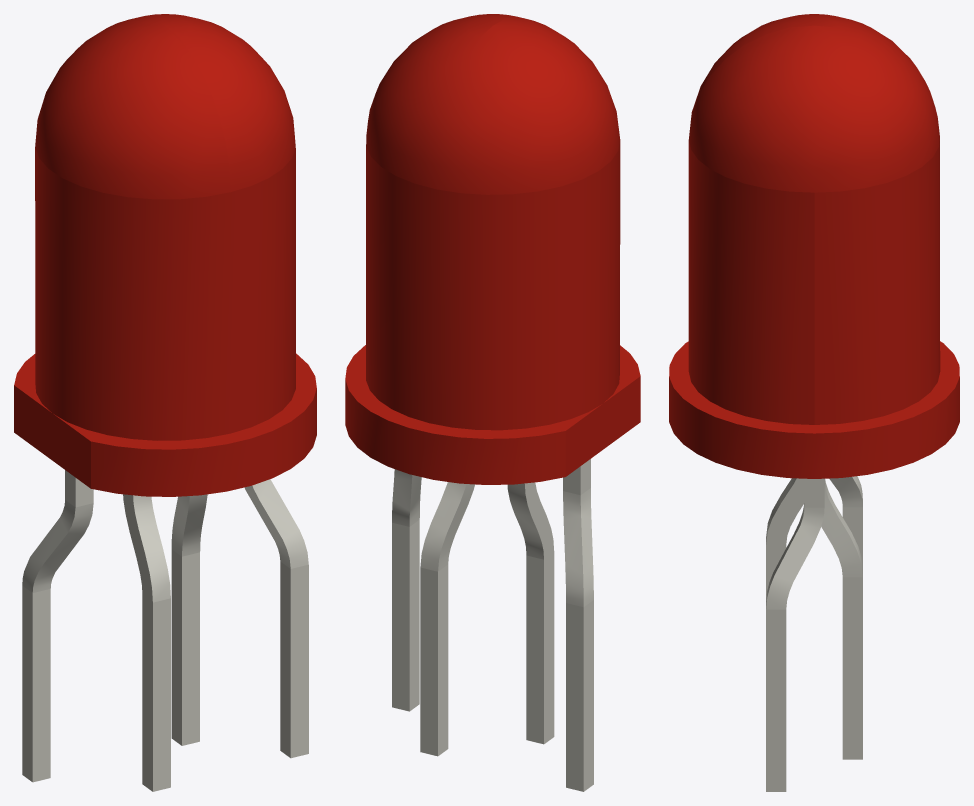
Rendered from kc-led_d5.0mm-4_rgb_staggered_pins.glb.
The picture shows the model from 3 angles, left to right: view 1: azimuth 30°, elevation 25°; view 2: azimuth 150°, elevation 25°; view 3: azimuth 270°, elevation 25°; orthographic projection. The views are drawn at different scales.
Visible parts, largest first — view 1: 0.4166666666666667_0_0_0, 0.6666666666666666_0.6666666666666666_0.5833333333333334_0.8; view 2: 0.4166666666666667_0_0_0, 0.6666666666666666_0.6666666666666666_0.5833333333333334_0.8; view 3: 0.4166666666666667_0_0_0, 0.6666666666666666_0.6666666666666666_0.5833333333333334_0.8.
Part boxes in pixels (left/top/right/bottom): 0.4166666666666667_0_0_0: left=14, top=14, right=316, bottom=496; 0.6666666666666666_0.6666666666666666_0.5833333333333334_0.8: left=22, top=470, right=308, bottom=791; 0.4166666666666667_0_0_0: left=345, top=14, right=640, bottom=484; 0.6666666666666666_0.6666666666666666_0.5833333333333334_0.8: left=392, top=459, right=593, bottom=791; 0.4166666666666667_0_0_0: left=669, top=14, right=959, bottom=478; 0.6666666666666666_0.6666666666666666_0.5833333333333334_0.8: left=766, top=476, right=862, bottom=791.
Bounding box in the file's own units: 0.5513 × 1.56 × 0.5782.
